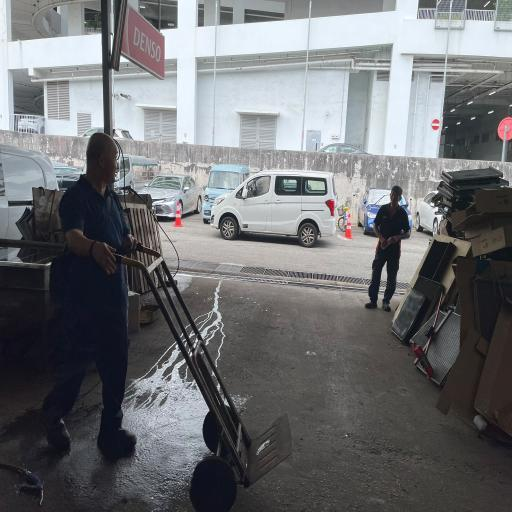person_right: (46, 118, 274, 496)
